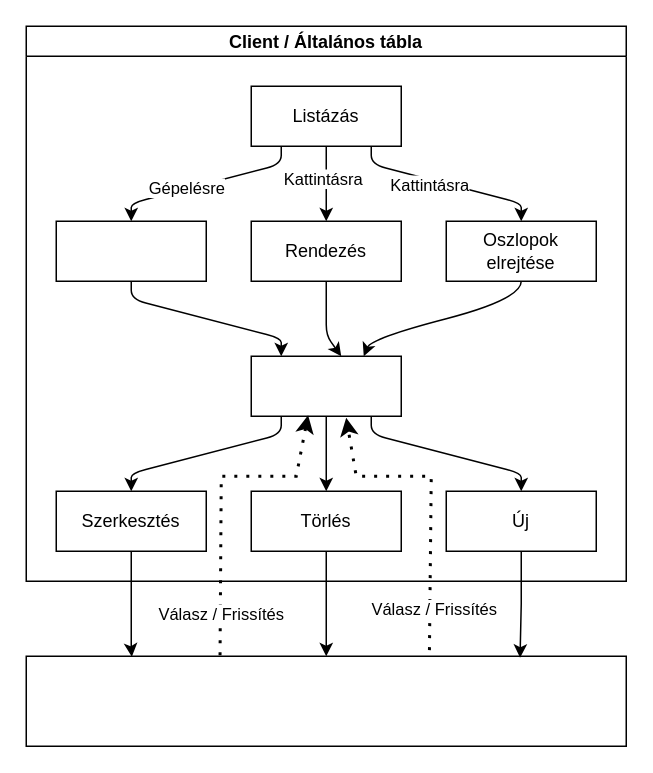
The diagram is 653 pixels wide and 773 high, and some of its shapes have lost their labels. Here are the shapes that lost their labels. From the top down, the centre of each, then its label:
At point 130,250: "Szűrés".
At point 325,385: "Frissített Lista".
At point 325,700: "Server metódus, autentikált és authorizált esemény".
